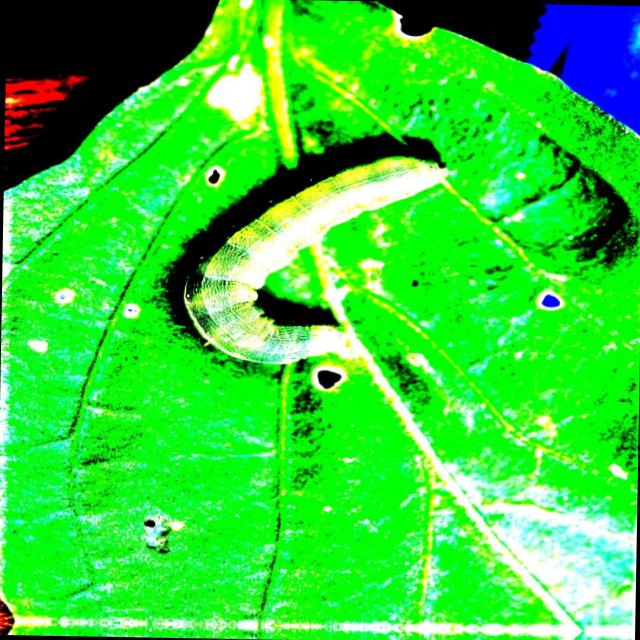Armyworm: (151, 132, 515, 369)
Armyworm_damage: (264, 367, 373, 409), (517, 271, 573, 337), (180, 141, 237, 204), (376, 7, 435, 62)
